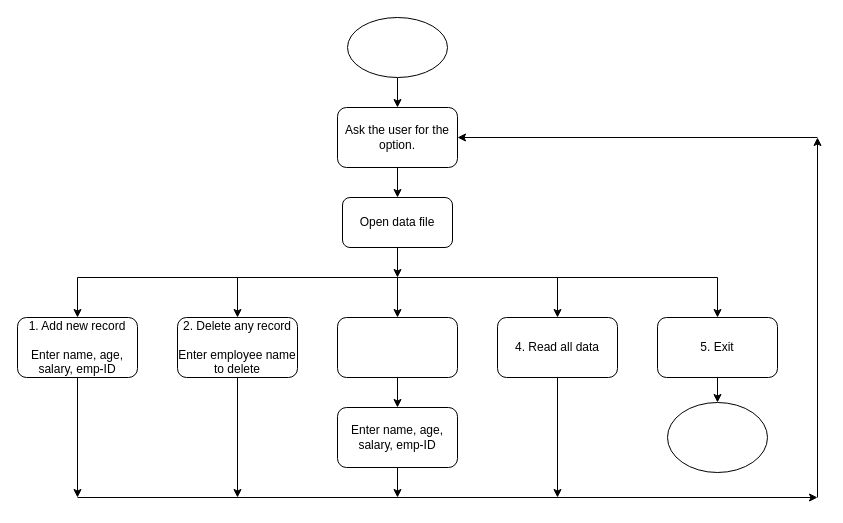
The diagram is 843 pixels wide and 523 high, and some of its shapes have lost their labels. The shapes that lost their labels are listed below. From the top down, each one's centre as x and y in pixels, then its label:
At (x=397, y=47): "Start".
At (x=397, y=347): "3. Modify Enter emp-name".
At (x=717, y=437): "Stop".
